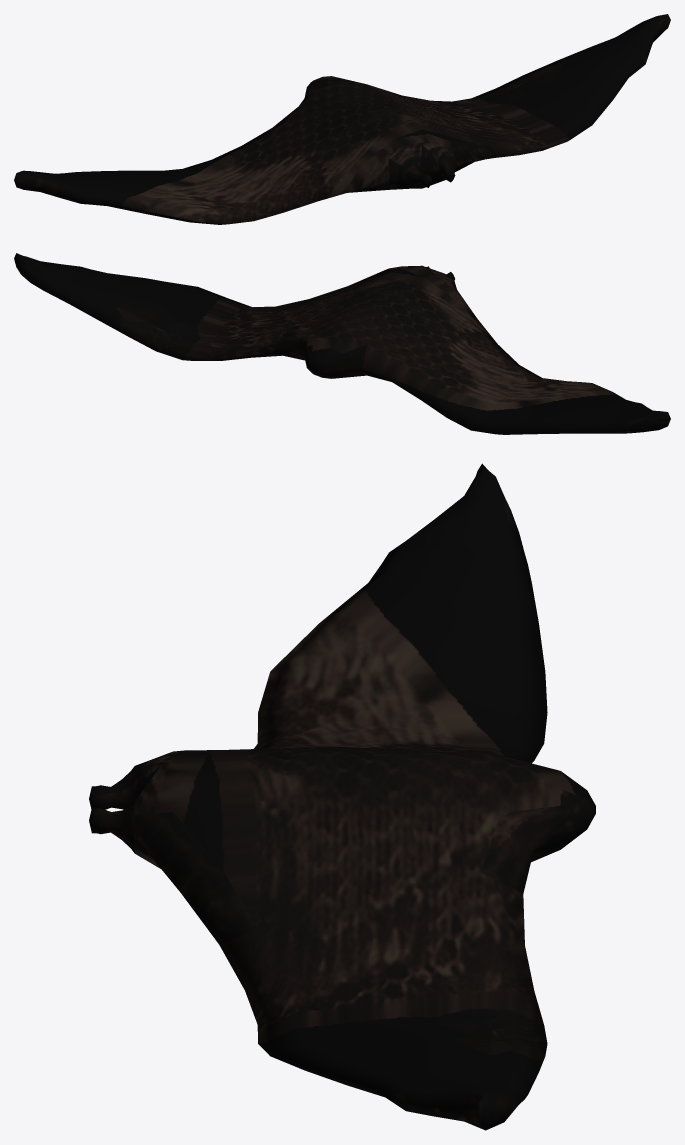
File: bat.fbx
3 views of the same model, one above another, from view 1: azimuth 30°, elevation 25°; view 2: azimuth 150°, elevation 25°; view 3: azimuth 270°, elevation 25° (orthographic). The views are drawn at different scales.
Parts seen in each view (by area): view 1: bat; view 2: bat; view 3: bat.
Boxes of the visible parts, bbox=[...] form: bat: bbox=[14, 14, 670, 224]; bat: bbox=[14, 253, 670, 434]; bat: bbox=[89, 463, 595, 1130].
Bounding box in the file's own units: 185 × 19.61 × 61.92.
